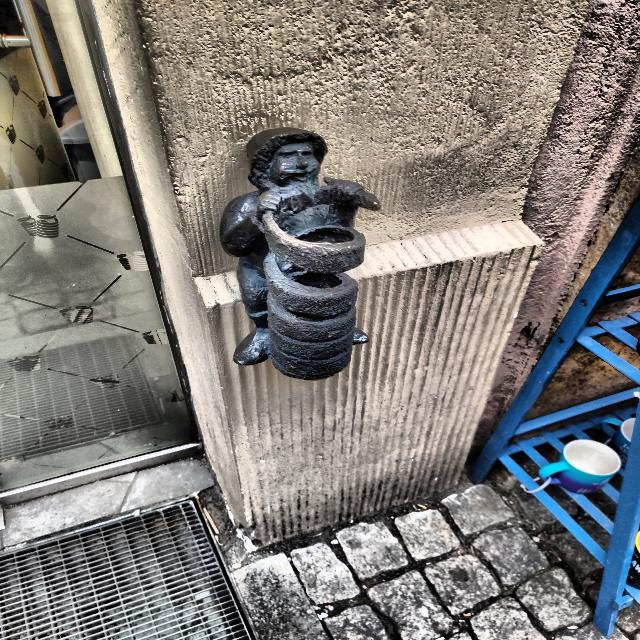Czimnejek: (220, 128, 380, 380)
